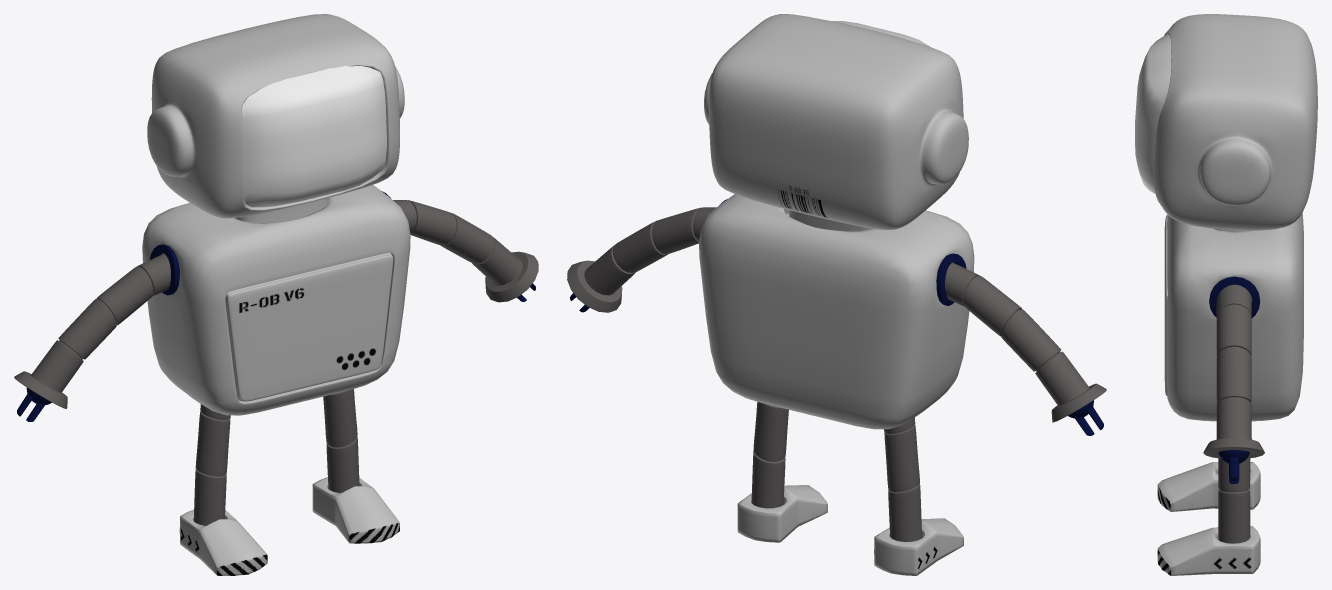
Rendered from MSH_rob.fbx.
3 views of the same model, side by side, from view 1: azimuth 30°, elevation 25°; view 2: azimuth 150°, elevation 25°; view 3: azimuth 270°, elevation 25° (orthographic). The views are drawn at different scales.
Visible parts, largest first — view 1: corps, Tete, screen1, Bras_droit, Bras_gauche, Pied_gauche, Pied_Droit, Jambe_droite, Jambe_droite1; view 2: corps, Tete, Bras_droit, Bras_gauche, Jambe_droite, Jambe_droite1, Pied_gauche, Pied_Droit; view 3: Tete, corps, Bras_gauche, Pied_gauche, screen1, Pied_Droit, Jambe_droite1, rondelle_bras1, main_gauche.
Boxes of the visible parts, bbox=[...] form: corps: bbox=[142, 185, 410, 415]; Tete: bbox=[147, 14, 404, 222]; screen1: bbox=[241, 66, 386, 207]; Bras_droit: bbox=[14, 253, 170, 408]; Bras_gauche: bbox=[393, 200, 538, 302]; Pied_gauche: bbox=[312, 477, 399, 543]; Pied_Droit: bbox=[179, 510, 267, 575]; Jambe_droite: bbox=[193, 404, 230, 525]; Jambe_droite1: bbox=[323, 389, 359, 492]; corps: bbox=[699, 194, 974, 429]; Tete: bbox=[704, 14, 968, 231]; Bras_droit: bbox=[945, 262, 1106, 422]; Bras_gauche: bbox=[567, 207, 716, 312]; Jambe_droite: bbox=[884, 417, 921, 541]; Jambe_droite1: bbox=[751, 402, 788, 508]; Pied_gauche: bbox=[737, 485, 827, 542]; Pied_Droit: bbox=[874, 518, 963, 575]; Tete: bbox=[1153, 14, 1317, 232]; corps: bbox=[1164, 213, 1303, 421]; Bras_gauche: bbox=[1203, 284, 1264, 458]; Pied_gauche: bbox=[1157, 526, 1260, 575]; screen1: bbox=[1135, 33, 1171, 193]; Pied_Droit: bbox=[1157, 462, 1260, 511]; Jambe_droite1: bbox=[1218, 458, 1250, 543]; rondelle_bras1: bbox=[1209, 276, 1260, 318]; main_gauche: bbox=[1218, 450, 1249, 483].
Bounding box in the file's own units: 15.33 × 13.88 × 4.74.
